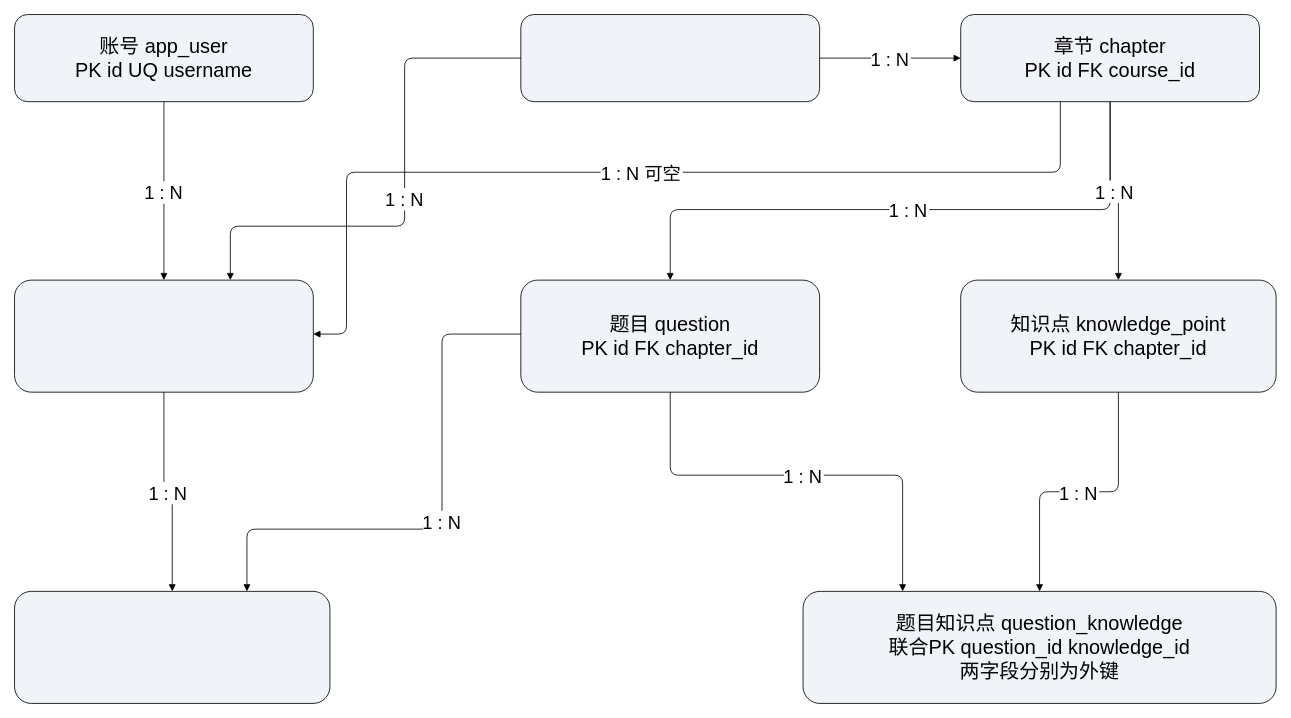
This 1291x718 diagram has some shape labels left out. The shapes that lost their labels are listed below. From the top down, each one's box as (x1, y1, x2, y2) in pixels, then its label:
(520, 14, 820, 102): 课程 course PK id
(14, 279, 313, 392): 练习 practice PK id FK student_id FK course_id chapter_id
(14, 591, 330, 703): 练习明细 practice_item PK id FK practice_id FK question_id
